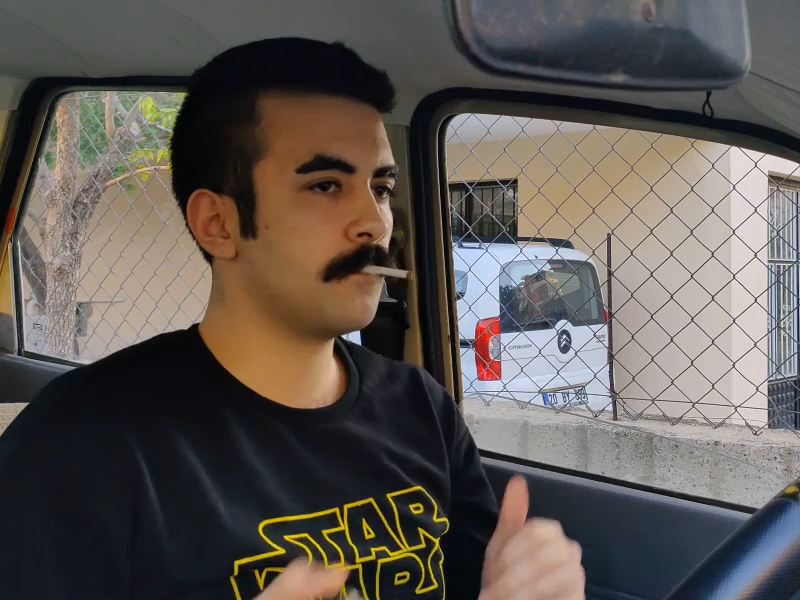sigara: (361, 264, 413, 281)
